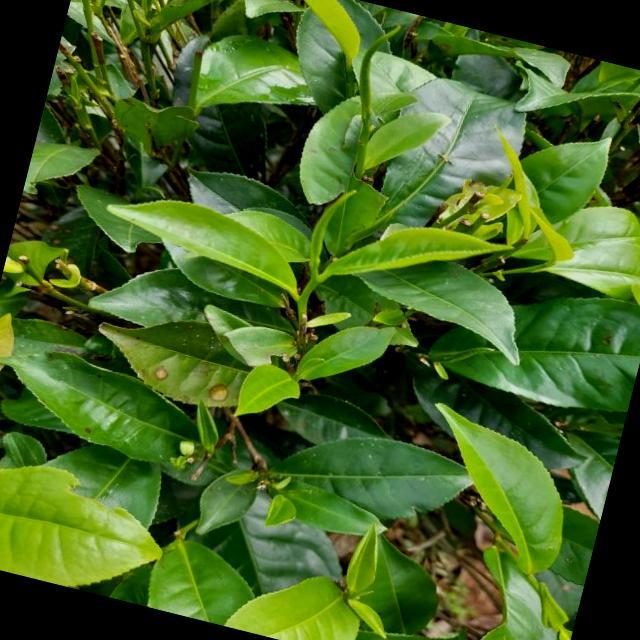Stem: (313, 277, 320, 285)
